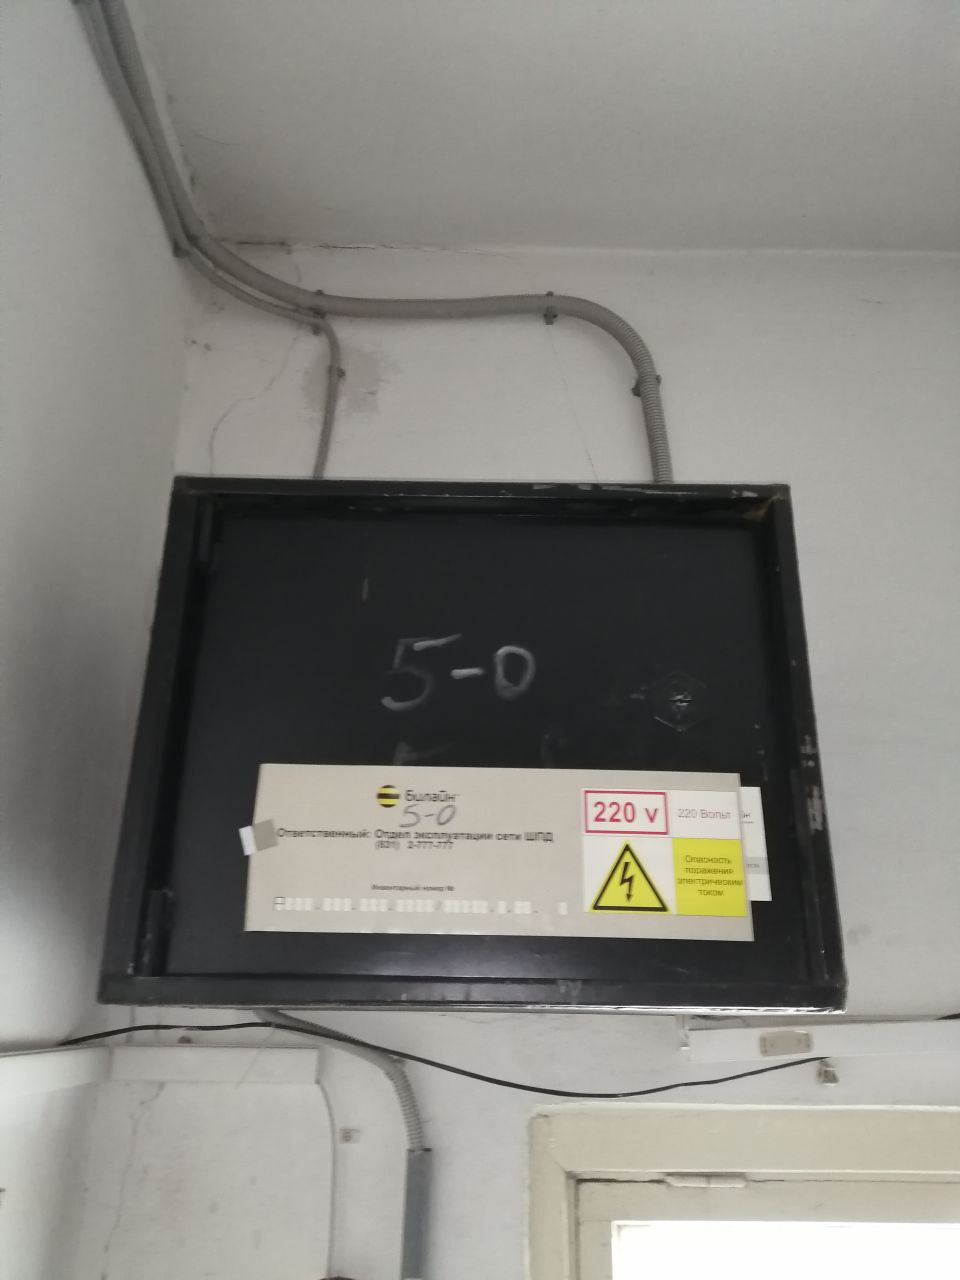shta-9m: (79, 460, 858, 1023)
